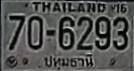0: (27, 15, 42, 49)
2: (76, 16, 92, 50)
3: (112, 16, 128, 49)
6: (58, 16, 74, 49)
7: (8, 15, 24, 49)
9: (94, 16, 110, 49)
PTE: (42, 53, 95, 70)
